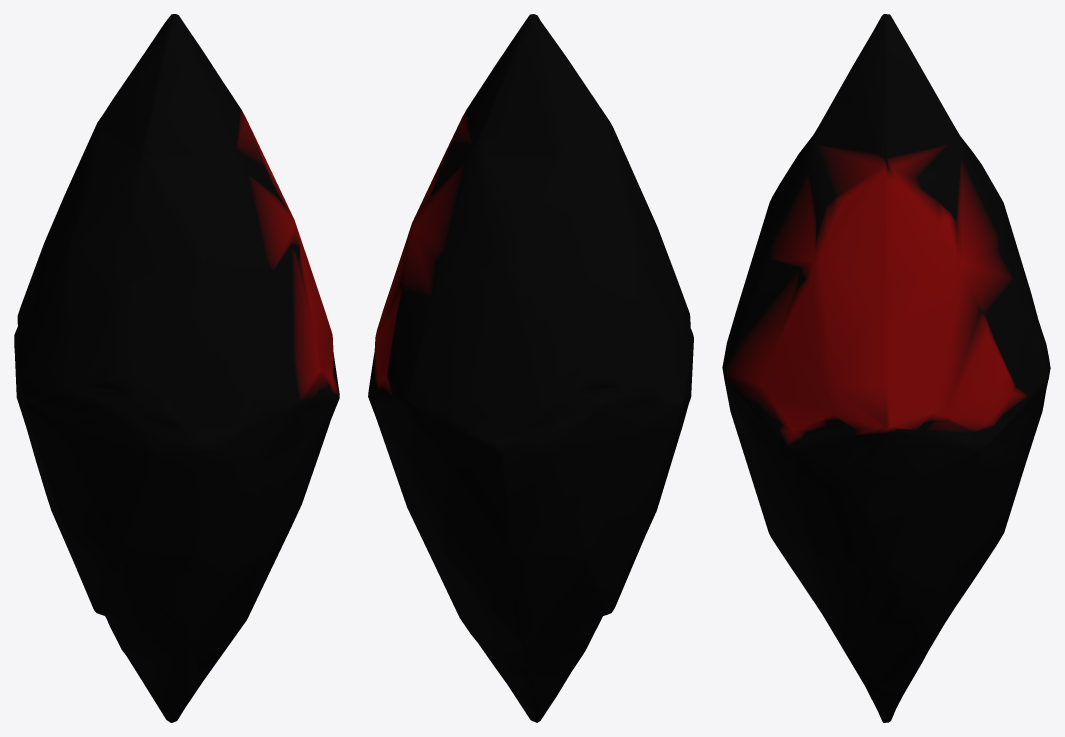
File: gen3d-obsidian-shard-lod1.glb
3 renders of one model, left to right at view 1: azimuth 30°, elevation 25°; view 2: azimuth 150°, elevation 25°; view 3: azimuth 270°, elevation 25°, orthographic.
Parts seen in each view (by area): view 1: part_0; view 2: part_0; view 3: part_0.
Boxes of the visible parts, <box> form: part_0: <box>14,14,339,722</box>; part_0: <box>368,14,693,722</box>; part_0: <box>722,14,1050,722</box>.
Bounding box in the file's own units: 0.4411 × 0.9998 × 0.4194.
